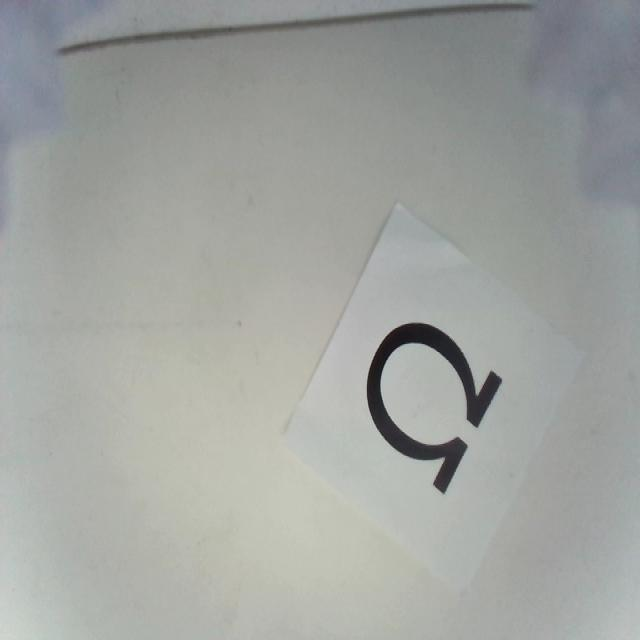OM: (365, 320, 504, 497)
